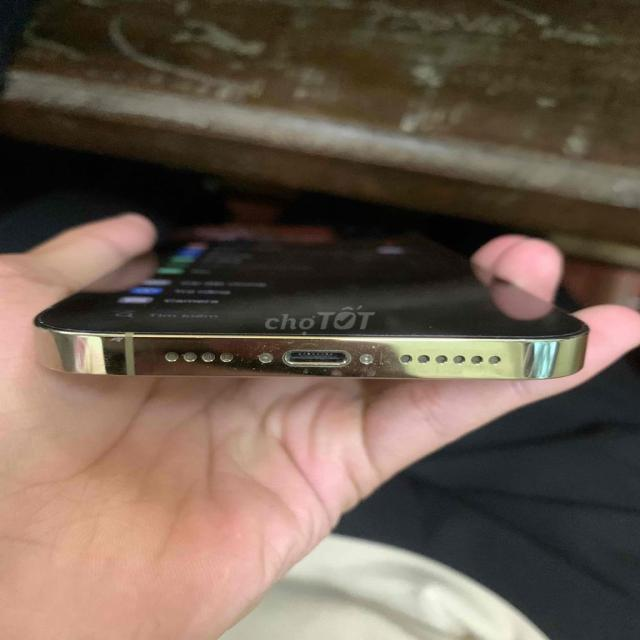scratch: (174, 321, 526, 392)
